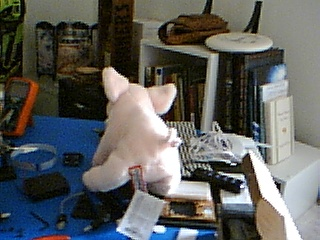piggy: (80, 65, 186, 197)
